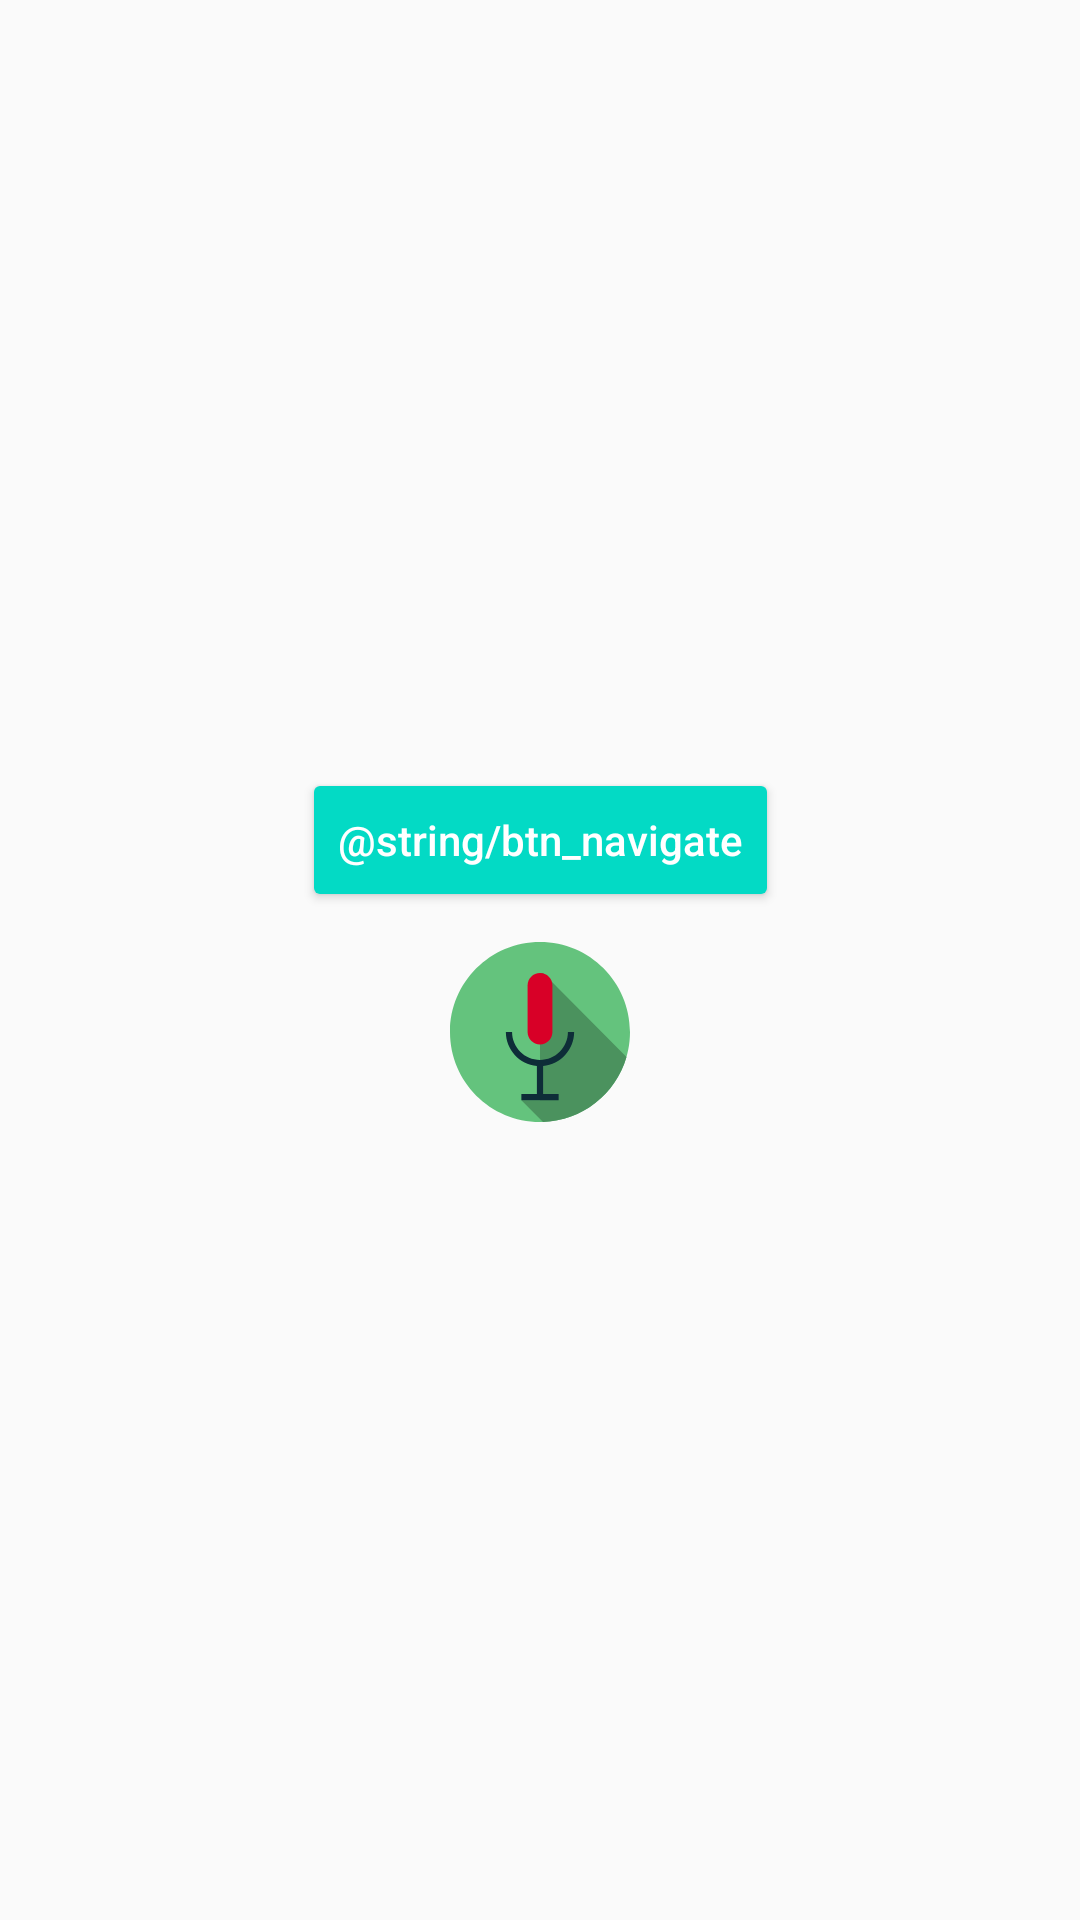

Named icons in this screenshot (1080 × 1920) and their bounding boxes, (x1, y1, x2, y2):
microphone: (450, 942, 630, 1122)
